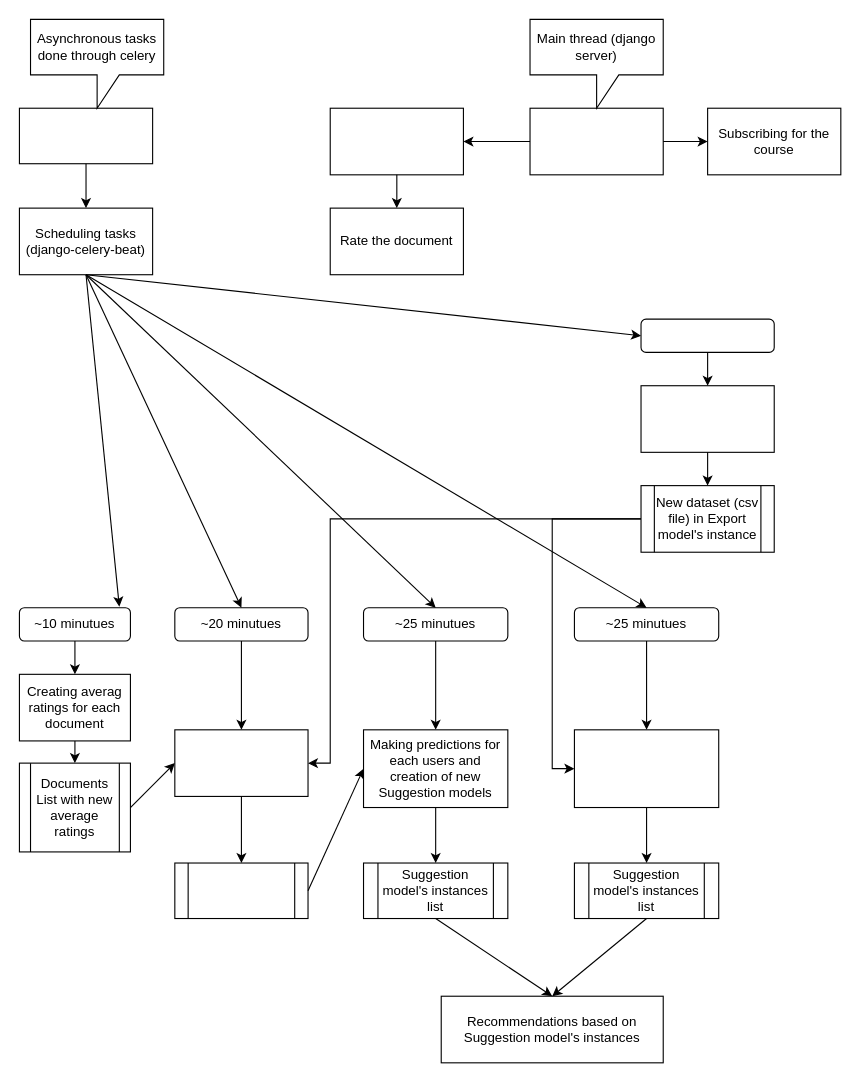
Some shapes in this 860 by 1082 pixel diagram are drawn without their labels. The centre of each missing label's shape, as x and y in pixels:
Collaborative filtering based on ratings.: [241,762]
Content-based training and making predicitons: [646,768]
New trained model: [241,890]
Parallel worker: [85,135]
Preparation of dataset: [707,418]
Rate website documents: [396,141]
Registration and authentication: [596,141]
~15 minutues: [707,335]
